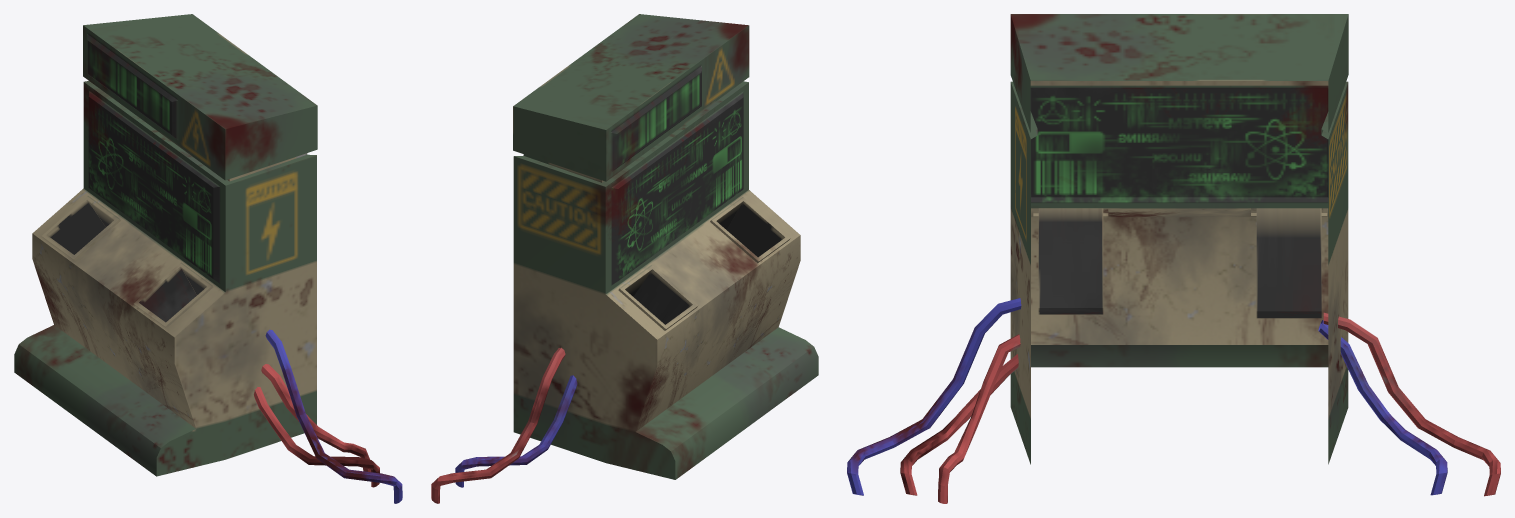
The picture shows the model from 3 angles, left to right: view 1: azimuth 30°, elevation 25°; view 2: azimuth 150°, elevation 25°; view 3: azimuth 270°, elevation 25°; orthographic projection. The views are drawn at different scales.
Visible parts, largest first — view 1: 2S_O_Machine, 2S_O_Wire; view 2: 2S_O_Machine, 2S_O_Wire; view 3: 2S_O_Machine, 2S_O_Wire.
Boxes of the visible parts, x1,y1,x2,y2 form: 2S_O_Machine: (14,14,317,476); 2S_O_Wire: (254,329,402,503); 2S_O_Machine: (513,14,818,479); 2S_O_Wire: (431,347,577,503); 2S_O_Machine: (1010,14,1348,464); 2S_O_Wire: (847,298,1500,503).
Size of the model in its own units: 2.66 by 4.82 by 6.76.
